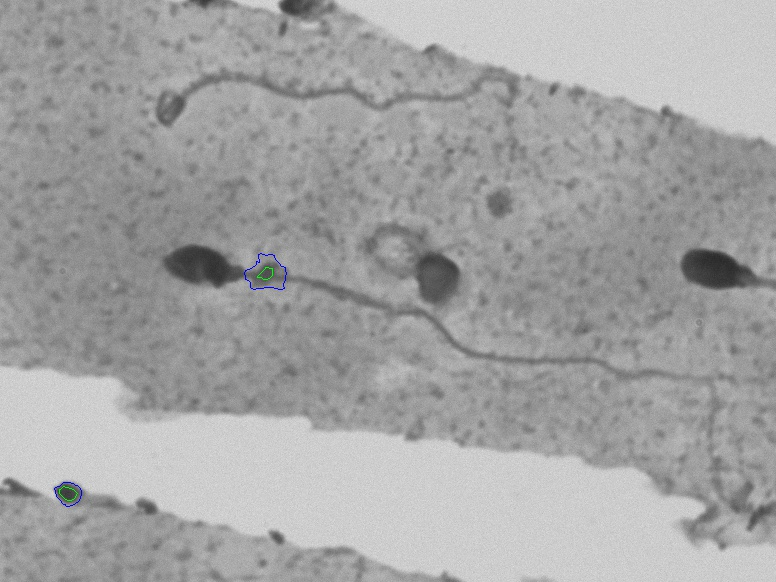Abnormal: (148, 196, 648, 432)
